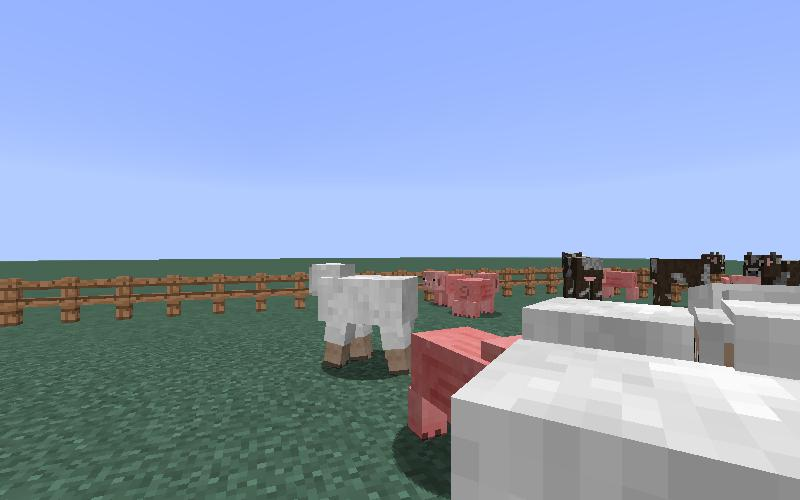cow: (647, 250, 728, 309), (556, 247, 605, 308), (742, 252, 800, 287)
pig: (409, 325, 524, 437), (444, 269, 501, 322)
sheep: (305, 257, 417, 376)
